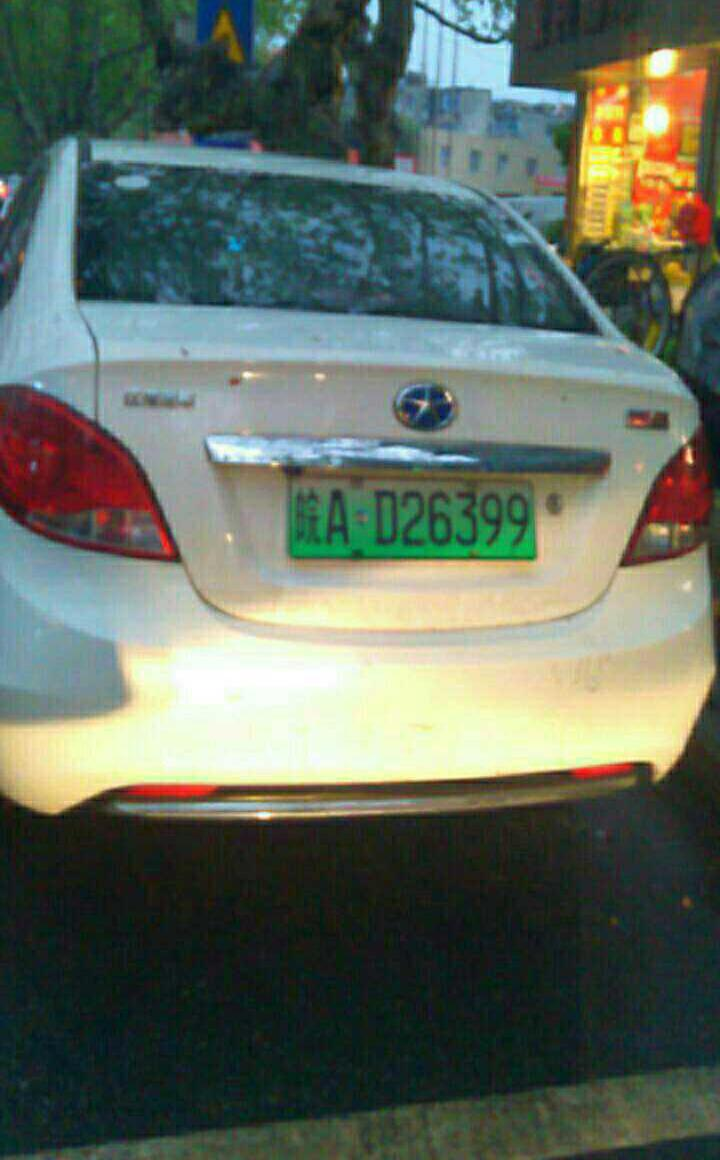car_green: (278, 465, 544, 569)
